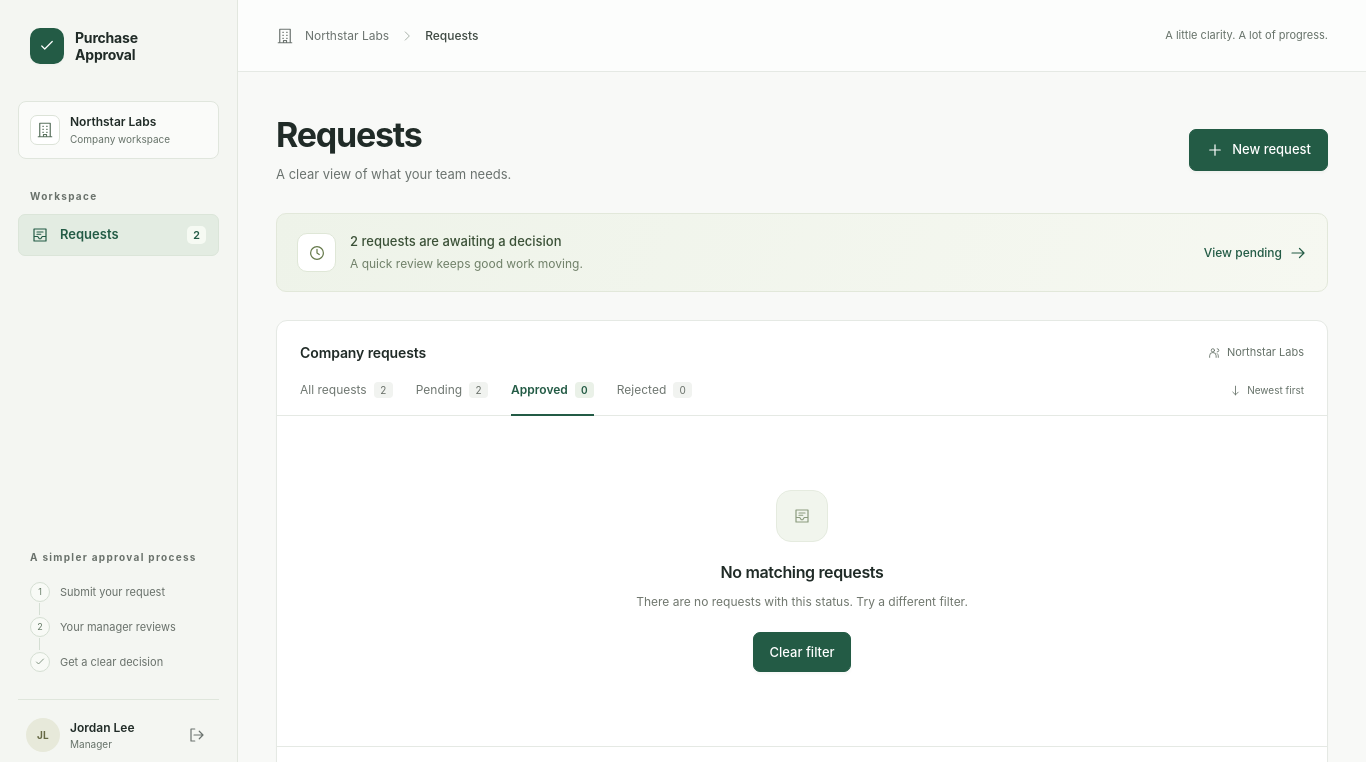
Test: status filter › explains an empty filter and clears it
Check: the heading "No matching requests" is shown, box [720, 560, 884, 584]
Check: the text "There are no requests with this status. Try a different filter." is shown, box [636, 590, 968, 612]
Click the button "Clear filter" at x=802, y=652, box [753, 632, 850, 672]
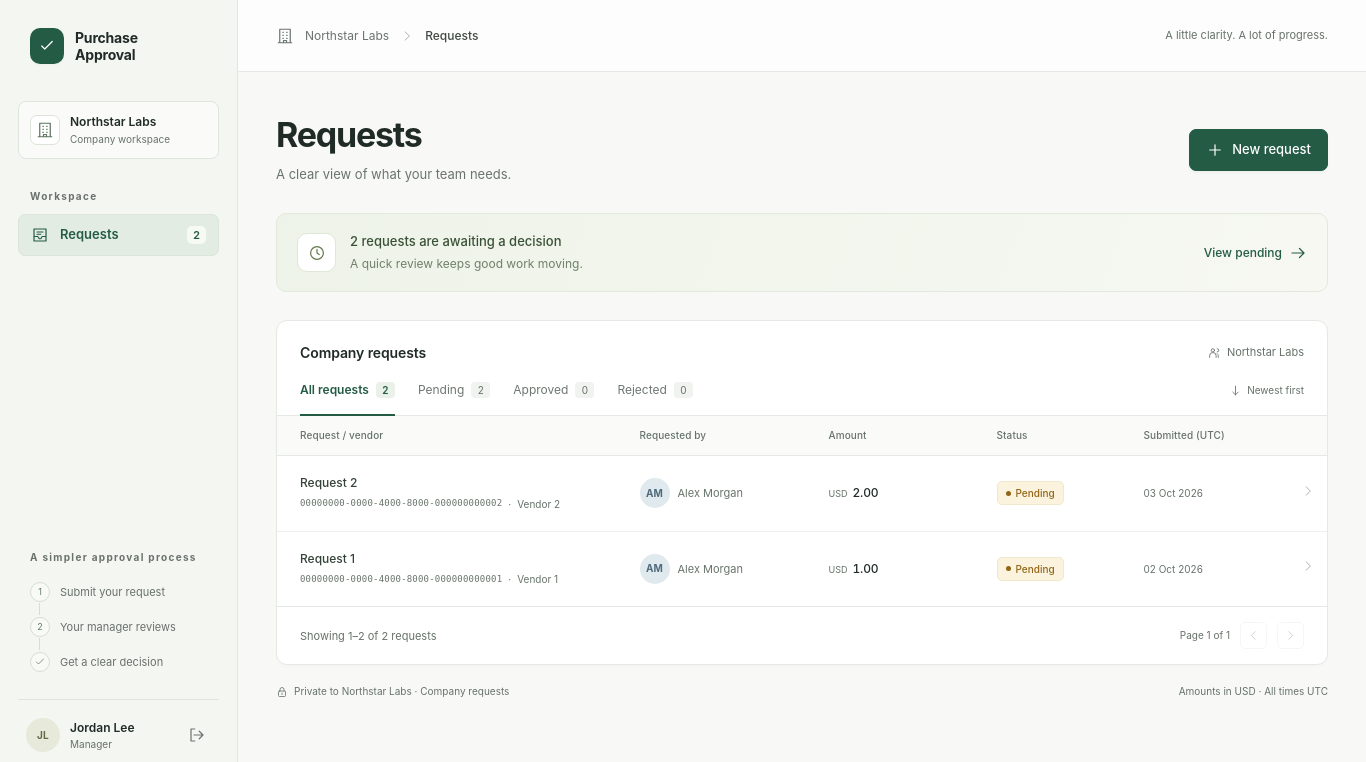
Check: the table is shown, box [277, 416, 1327, 606]
